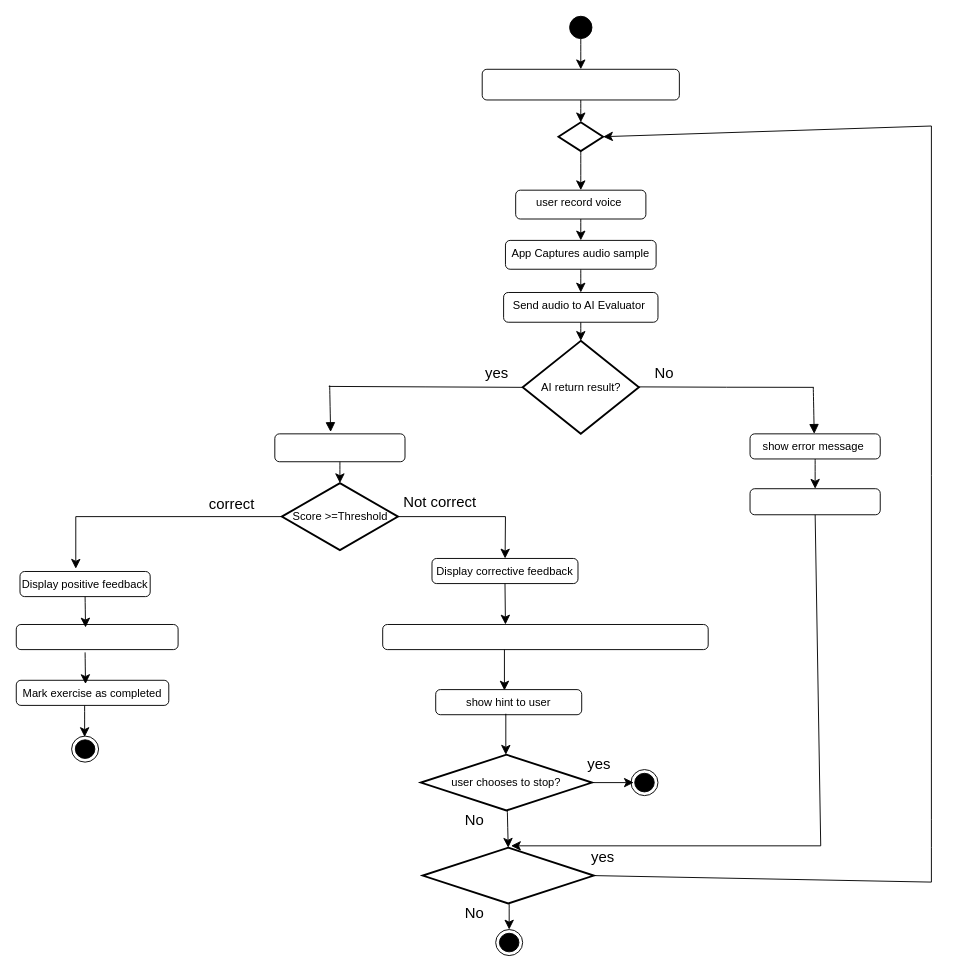
This 957x972 diagram has some shape labels left out. The shapes that lost their labels are listed below. From the top down, each one's centre as x and y in pixels, then its label:
(x=580, y=84): user starts pronunciation exercise
(x=339, y=447): Analyze Score
(x=814, y=501): Ask user to retry later
(x=96, y=637): Show "welldone !" message
(x=545, y=637): Generate hint(phoneme,mouse shape,slow pronunciation
(x=507, y=875): user wants to retry?
